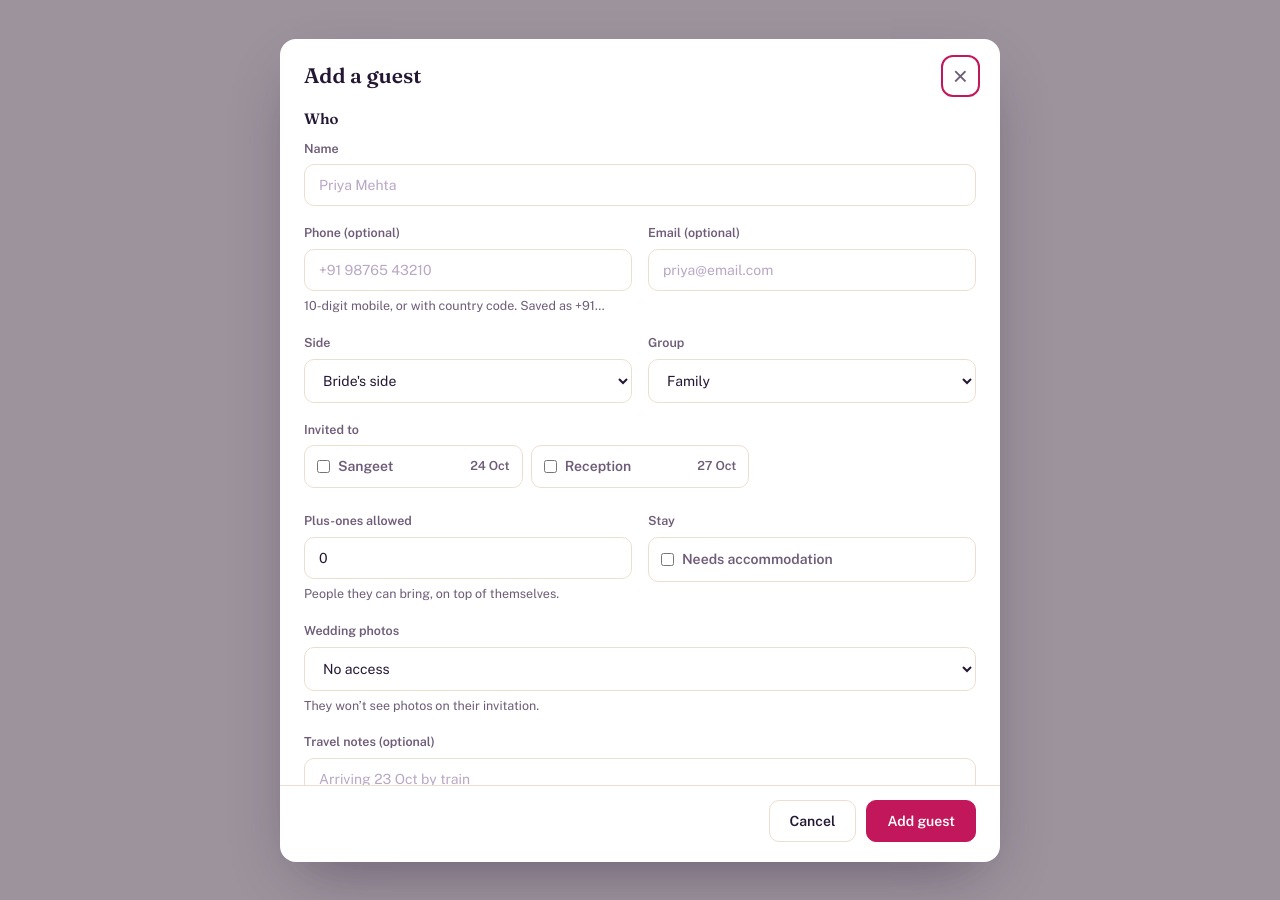
Add a guest › shows the server’s field messages and does not open a guest
The width and height of the screenshot is (1280, 900).
Type "12345" into the field labelled "Phone (optional)" at (468, 270), box [304, 249, 632, 291]
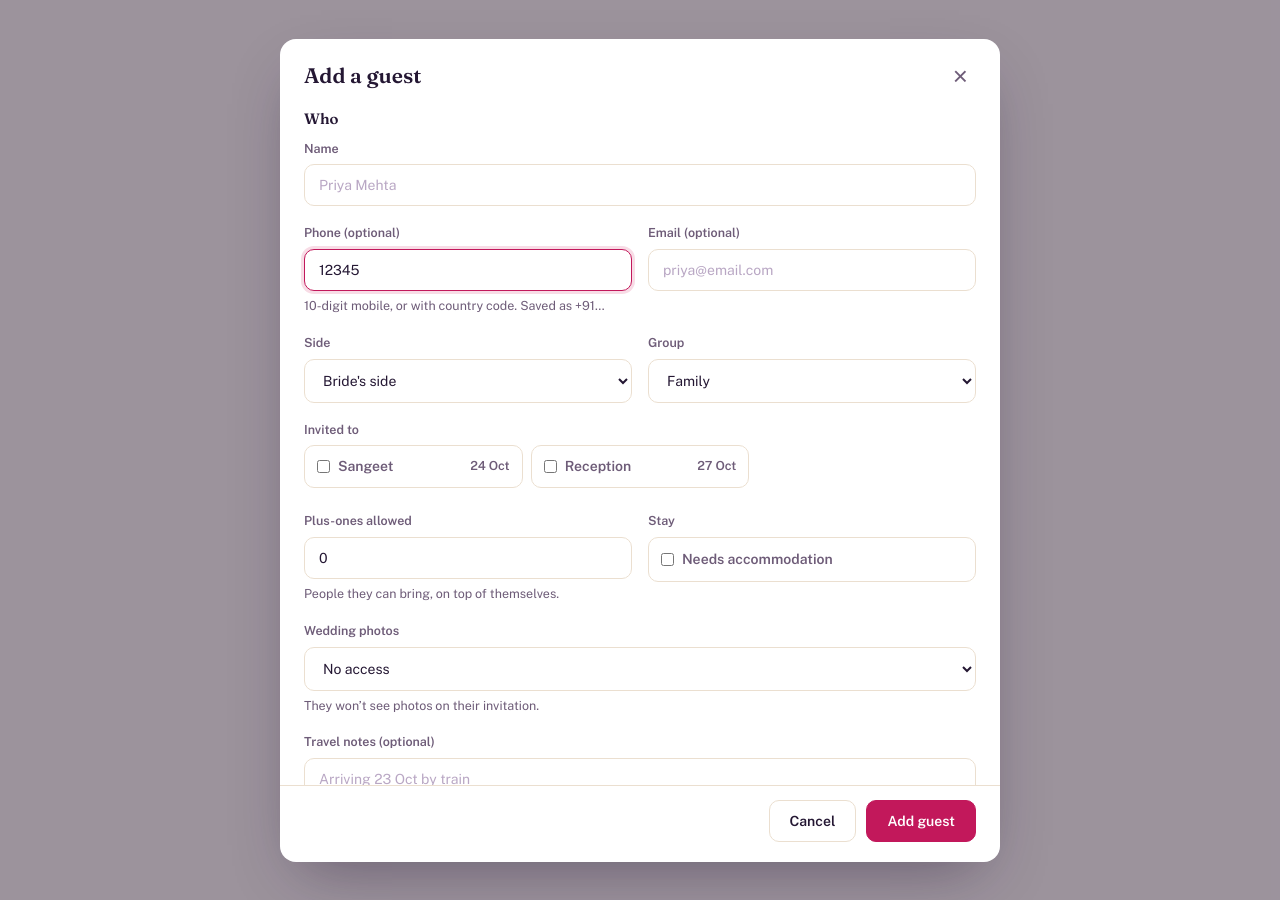
Click the button "Add guest" at (921, 820), box [866, 800, 976, 842]
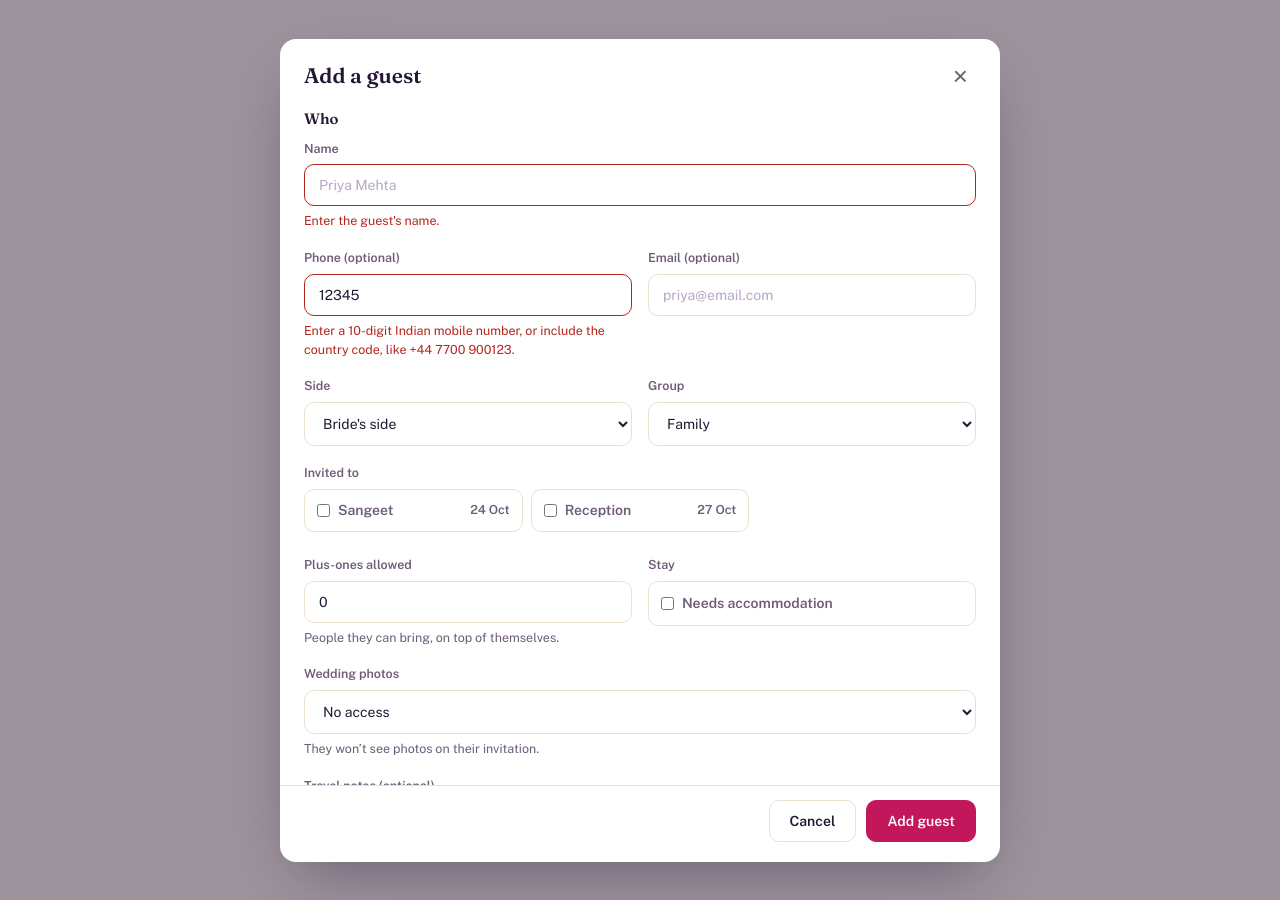
Result: the text "Enter the guest's name." is shown at [304, 213, 439, 228]
Result: the text "10-digit Indian mobile" is shown at [304, 323, 605, 357]
